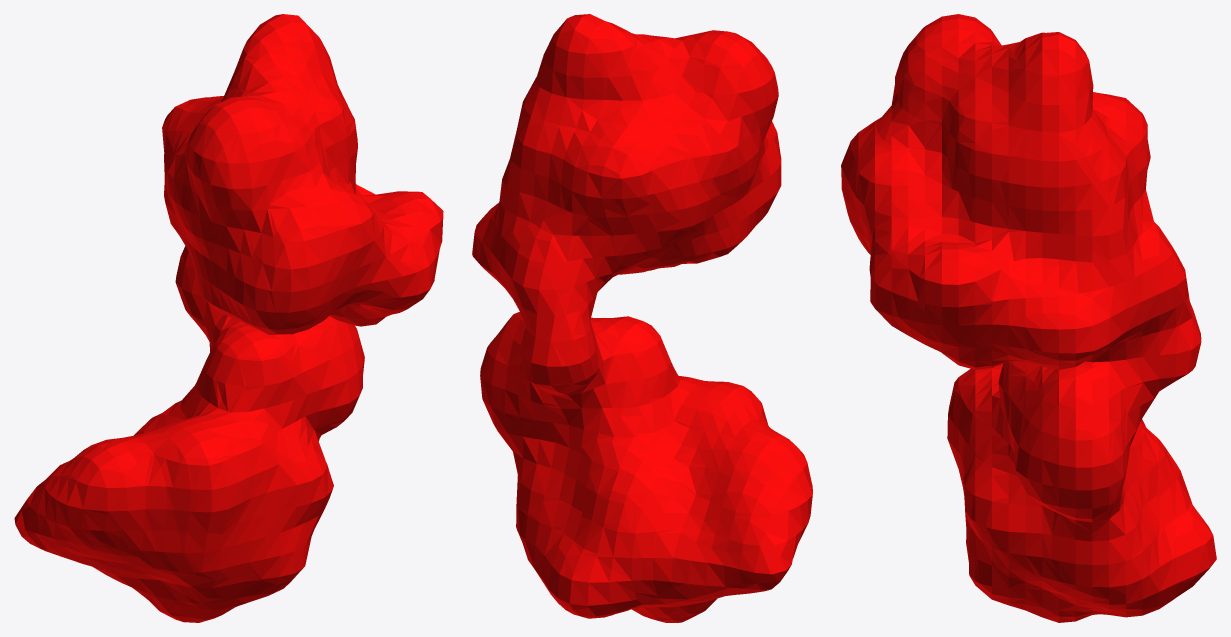
Rendered from uvrY_coarse.dae.
3 views of the same model, side by side, from view 1: azimuth 30°, elevation 25°; view 2: azimuth 150°, elevation 25°; view 3: azimuth 270°, elevation 25° (orthographic). The views are drawn at different scales.
Parts seen in each view (by area): view 1: uvrY; view 2: uvrY; view 3: uvrY.
Boxes of the visible parts, x1,y1,x2,y2 form: uvrY: [14, 14, 443, 622]; uvrY: [472, 14, 812, 622]; uvrY: [841, 14, 1216, 622].
Bounding box in the file's own units: 50.39 × 81.89 × 44.77.
